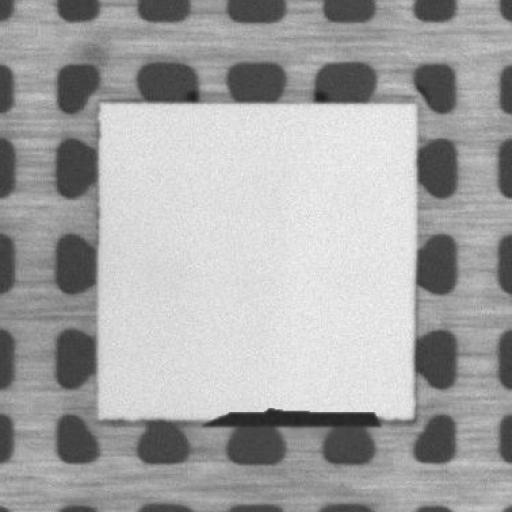DIE_BROKEN: (198, 404, 386, 427)
